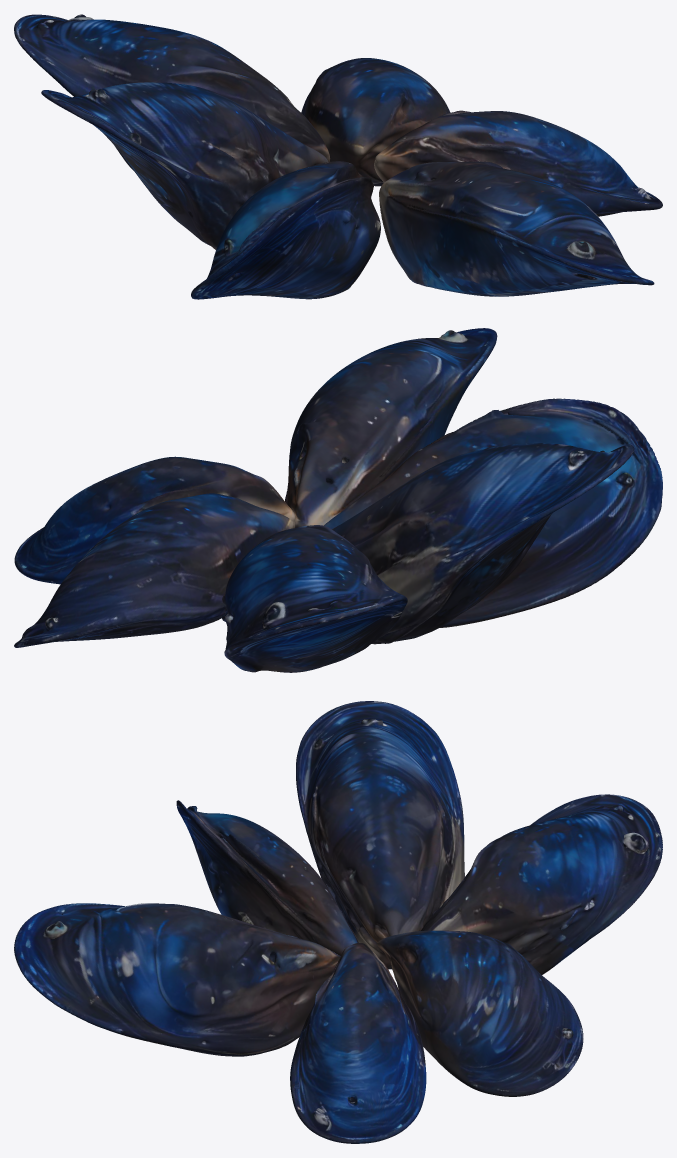
Rendered from mussels.glb.
3 renders of one model, top to bottom at view 1: azimuth 30°, elevation 25°; view 2: azimuth 150°, elevation 25°; view 3: azimuth 270°, elevation 25°, orthographic. The views are drawn at different scales.
Parts seen in each view (by area): view 1: tripo_node_8f82ee2a-9d6a-472d-a0c2-9fecffd646cd; view 2: tripo_node_8f82ee2a-9d6a-472d-a0c2-9fecffd646cd; view 3: tripo_node_8f82ee2a-9d6a-472d-a0c2-9fecffd646cd.
Part boxes in pixels (left/top/right/bottom): tripo_node_8f82ee2a-9d6a-472d-a0c2-9fecffd646cd: left=14, top=14, right=662, bottom=299; tripo_node_8f82ee2a-9d6a-472d-a0c2-9fecffd646cd: left=14, top=328, right=662, bottom=672; tripo_node_8f82ee2a-9d6a-472d-a0c2-9fecffd646cd: left=14, top=701, right=662, bottom=1143.
Size of the model in its own units: 0.8971 by 0.3419 by 1.
1 material, 1 textured.
